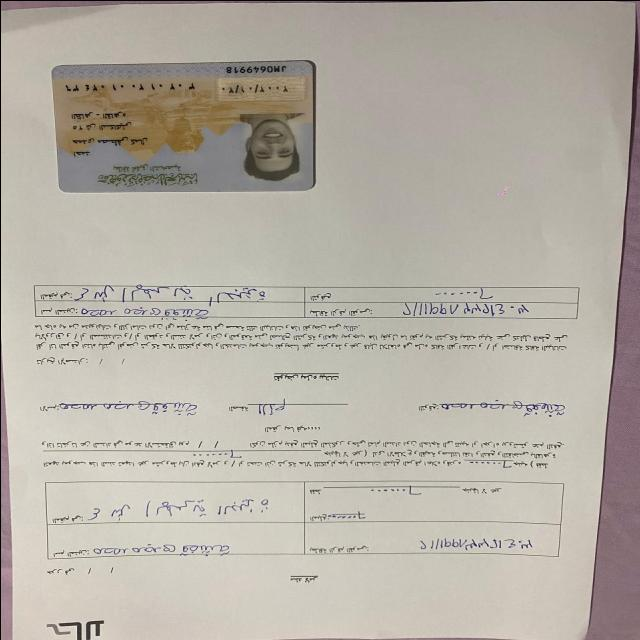ID-cards: (46, 55, 320, 194)
